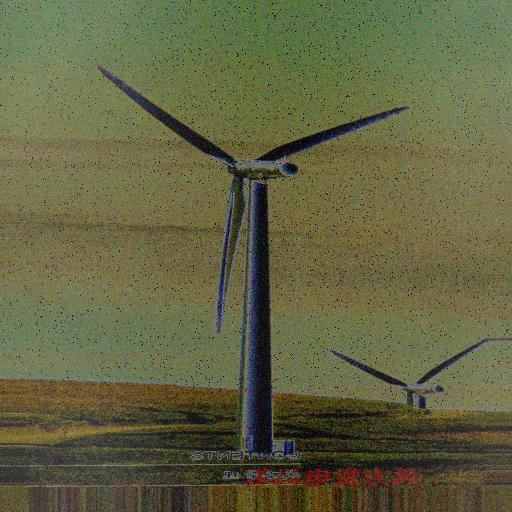wind turbine: (96, 63, 411, 448)
